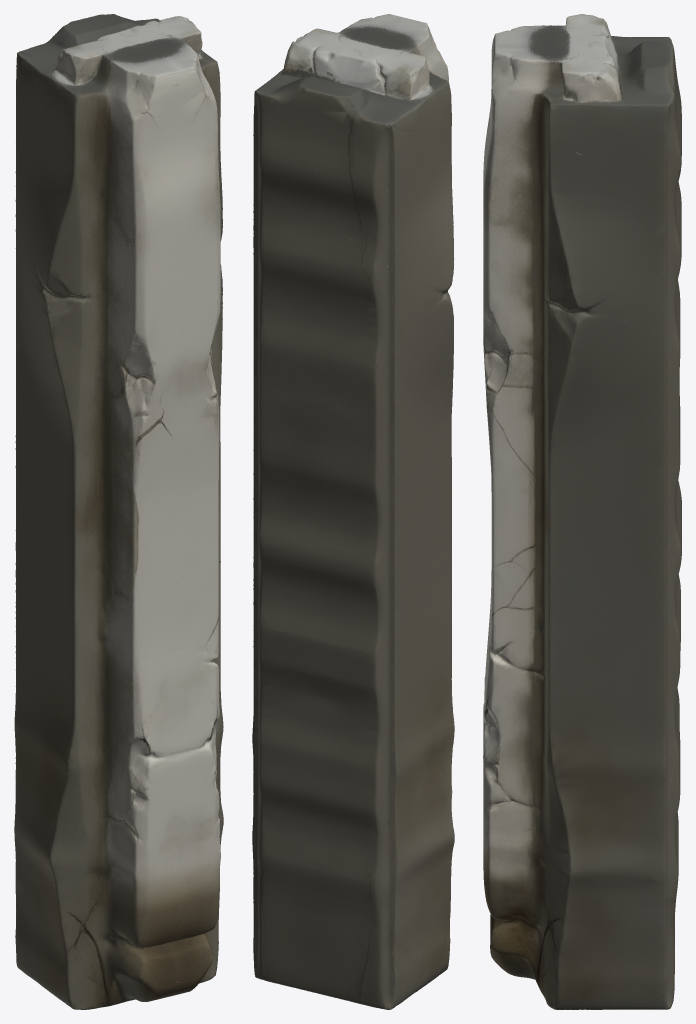
File: prop_road_stripe.glb
3 renders of one model, left to right at view 1: azimuth 30°, elevation 25°; view 2: azimuth 150°, elevation 25°; view 3: azimuth 270°, elevation 25°, orthographic. The views are drawn at different scales.
Visible parts, largest first — view 1: Mesh_0; view 2: Mesh_0; view 3: Mesh_0.
Boxes of the visible parts, x1,y1,x2,y2 form: Mesh_0: [14, 14, 223, 1009]; Mesh_0: [252, 14, 454, 1009]; Mesh_0: [483, 14, 681, 1009].
Size of the model in its own units: 0.3867 by 2 by 0.3865.
Materials: 1 (1 with a texture image).
